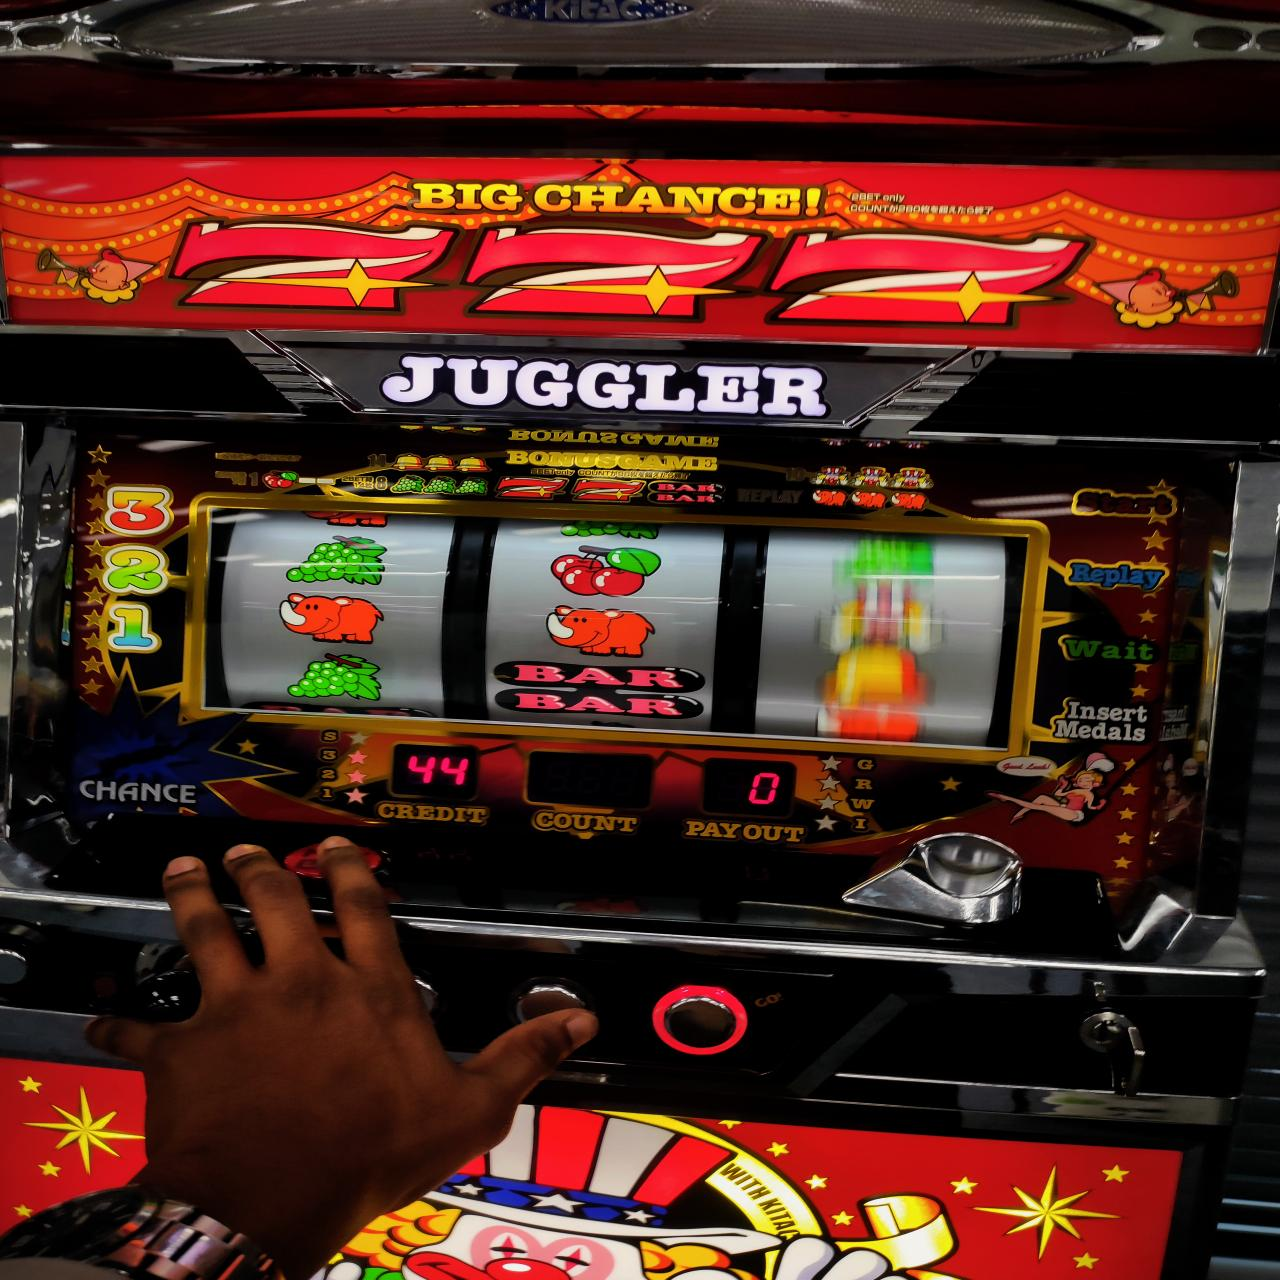8: (544, 605, 655, 656), (275, 594, 386, 645)
bar: (493, 658, 710, 723)
cherry: (550, 543, 661, 597)
grape: (285, 531, 388, 587), (287, 652, 389, 703)
rhino: (203, 505, 1035, 767)
